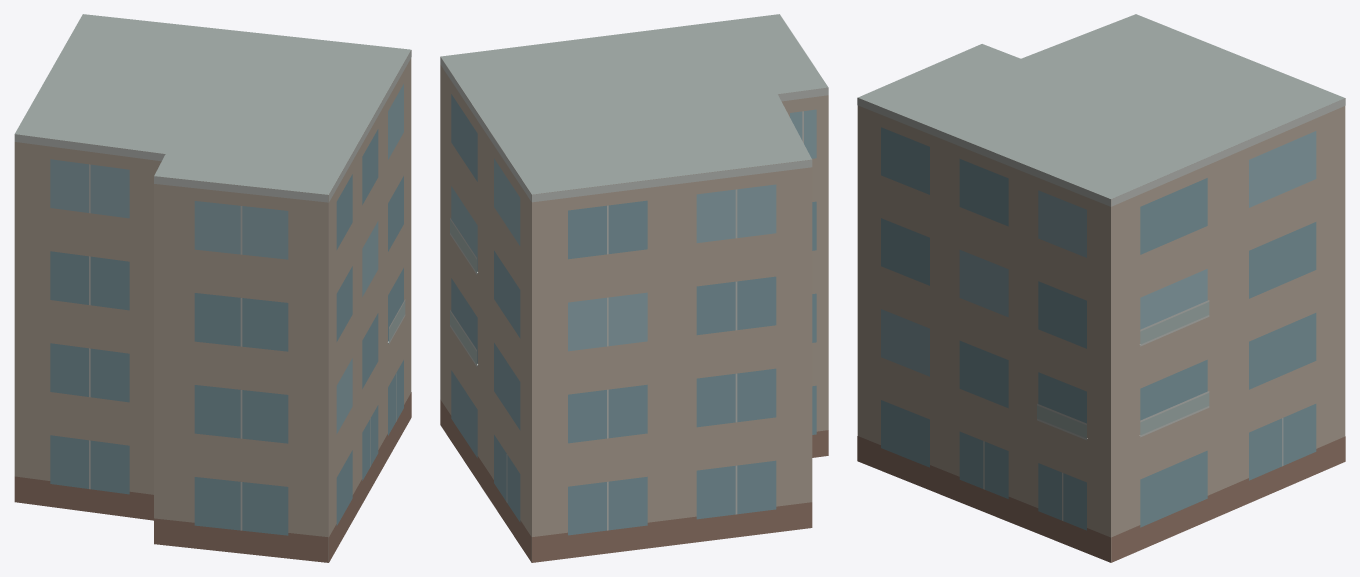
Rendered from survey-upis-32679474.glb.
The picture shows the model from 3 angles, left to right: view 1: azimuth 30°, elevation 25°; view 2: azimuth 150°, elevation 25°; view 3: azimuth 270°, elevation 25°; orthographic projection.
Parts seen in each view (by area): view 1: survey-upis-32679474.tmp; view 2: survey-upis-32679474.tmp; view 3: survey-upis-32679474.tmp.
Boxes of the visible parts, <box> form: survey-upis-32679474.tmp: <box>14,14,411,562</box>; survey-upis-32679474.tmp: <box>440,14,828,562</box>; survey-upis-32679474.tmp: <box>857,14,1345,562</box>.
Bounding box in the file's own units: 12.68 × 11.6 × 14.11.
